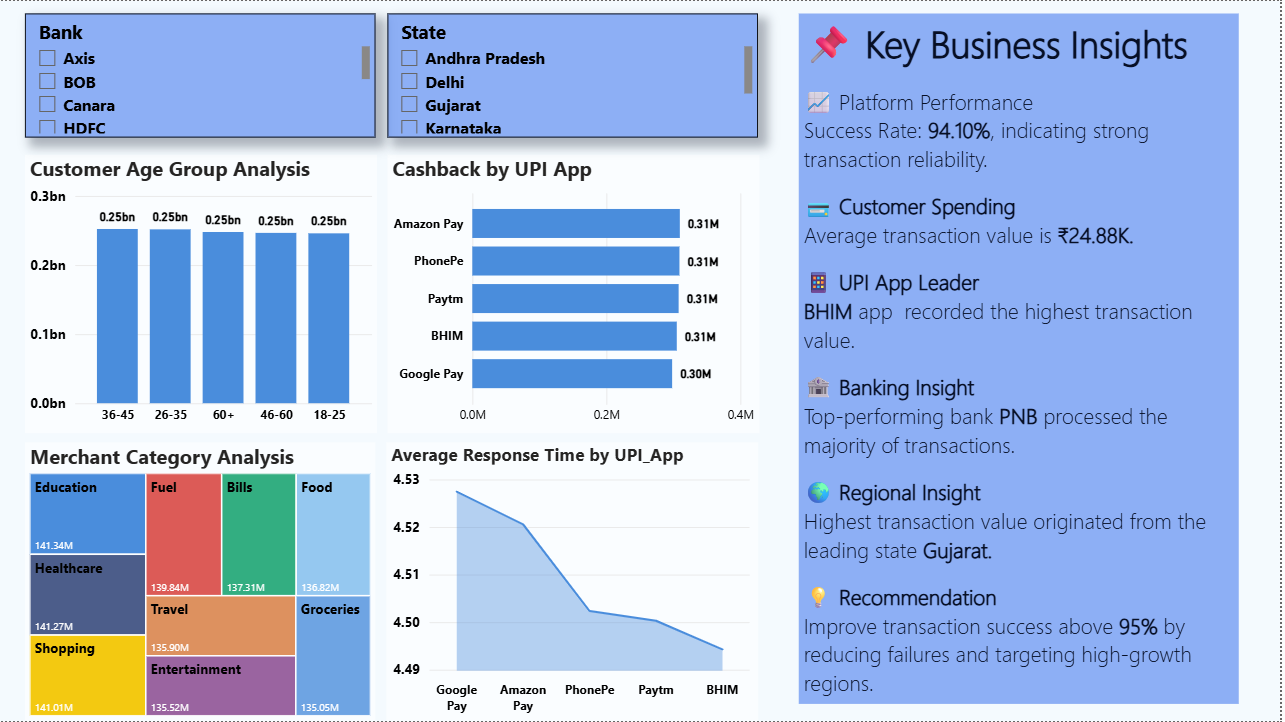

Layout of this report page (visuals, bound fields, positions):
{"tool":"powerbi","page":{"name":"Page 2","canvas":[1280,720],"ordinal":1},"visuals":[{"type":"columnChart","title":"Customer Age Group Analysis","fields":{"Category":["Fact_UPI_Transactions.Customer_Age_Group"],"Y":["Fact_UPI_Transactions.Total Transaction Value"]},"box":[25.3,153.3,352,278.7],"z":0},{"type":"treemap","title":"Merchant Category Analysis","fields":{"Group":["Fact_UPI_Transactions.Merchant_Category"],"Values":["Fact_UPI_Transactions.Total Transaction Value"]},"box":[25.3,441.3,350.7,278.7],"z":1000},{"type":"barChart","title":"Cashback by UPI App","fields":{"Category":["Fact_UPI_Transactions.UPI_App"],"Y":["Fact_UPI_Transactions.Total Cashback"]},"box":[388,153.3,372,278.7],"z":2000},{"type":"stackedAreaChart","fields":{"Category":["Fact_UPI_Transactions.UPI_App"],"Y":["Fact_UPI_Transactions.Average Response Time"]},"box":[386.7,441.3,372,278.7],"z":3000},{"type":"textbox","box":[798.6,12.5,439.7,690.1],"z":4000},{"type":"slicer","fields":{"Values":["Fact_UPI_Transactions.Bank"]},"box":[25.3,12,350.7,124],"z":7000},{"type":"slicer","fields":{"Values":["Fact_UPI_Transactions.State"]},"box":[388,12,370.7,124],"z":8000}]}

Visuals, with their boxes in screenshot pixels (x1, y1, x2, y2), scaled from the page's 1280x720 canvas onto the 1285x722 screenshot:
"Customer Age Group Analysis" columnChart: pyautogui.locateOnScreen(25, 154, 379, 433)
"Merchant Category Analysis" treemap: pyautogui.locateOnScreen(25, 443, 377, 721)
"Cashback by UPI App" barChart: pyautogui.locateOnScreen(390, 154, 763, 433)
stackedAreaChart - Fact_UPI_Transactions.UPI_App x Fact_UPI_Transactions.Average Response Time: pyautogui.locateOnScreen(388, 443, 762, 721)
textbox: pyautogui.locateOnScreen(802, 13, 1243, 705)
slicer - Fact_UPI_Transactions.Bank: pyautogui.locateOnScreen(25, 12, 377, 136)
slicer - Fact_UPI_Transactions.State: pyautogui.locateOnScreen(390, 12, 762, 136)
